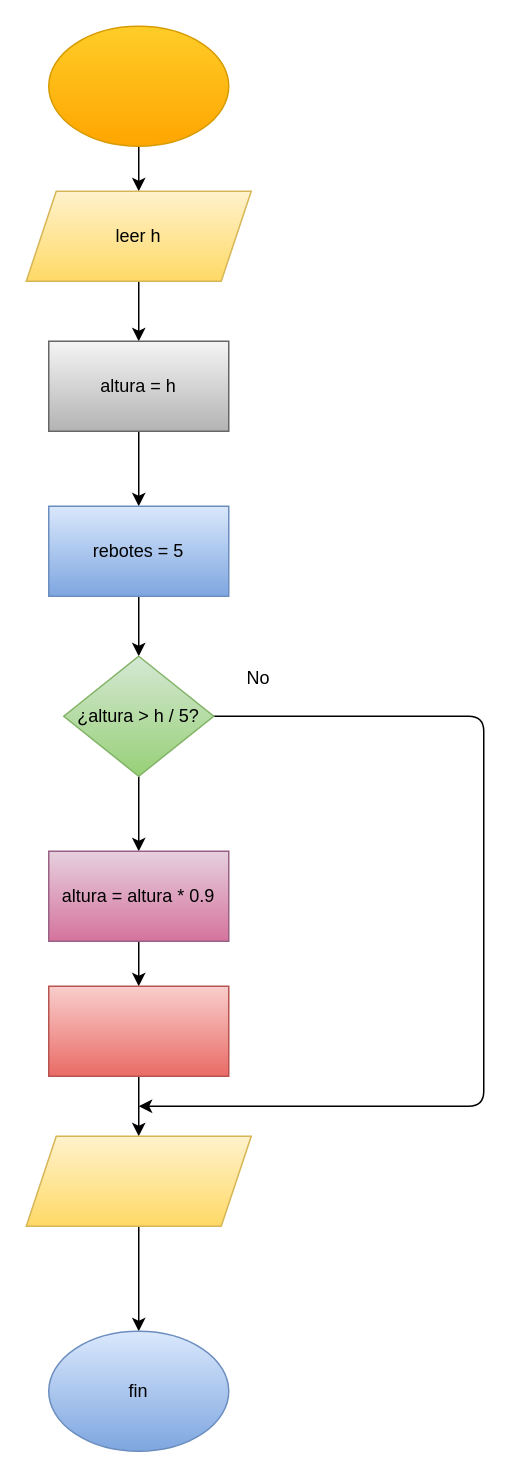
The diagram is 522 pixels wide and 1478 high, and some of its shapes have lost their labels. Each missing label, with the centre of its shape:
"imprimir rebotes" belongs at (x=138, y=1180).
"inicio" belongs at (x=138, y=85).
"rebotes = rebotes + 1" belongs at (x=138, y=1030).
